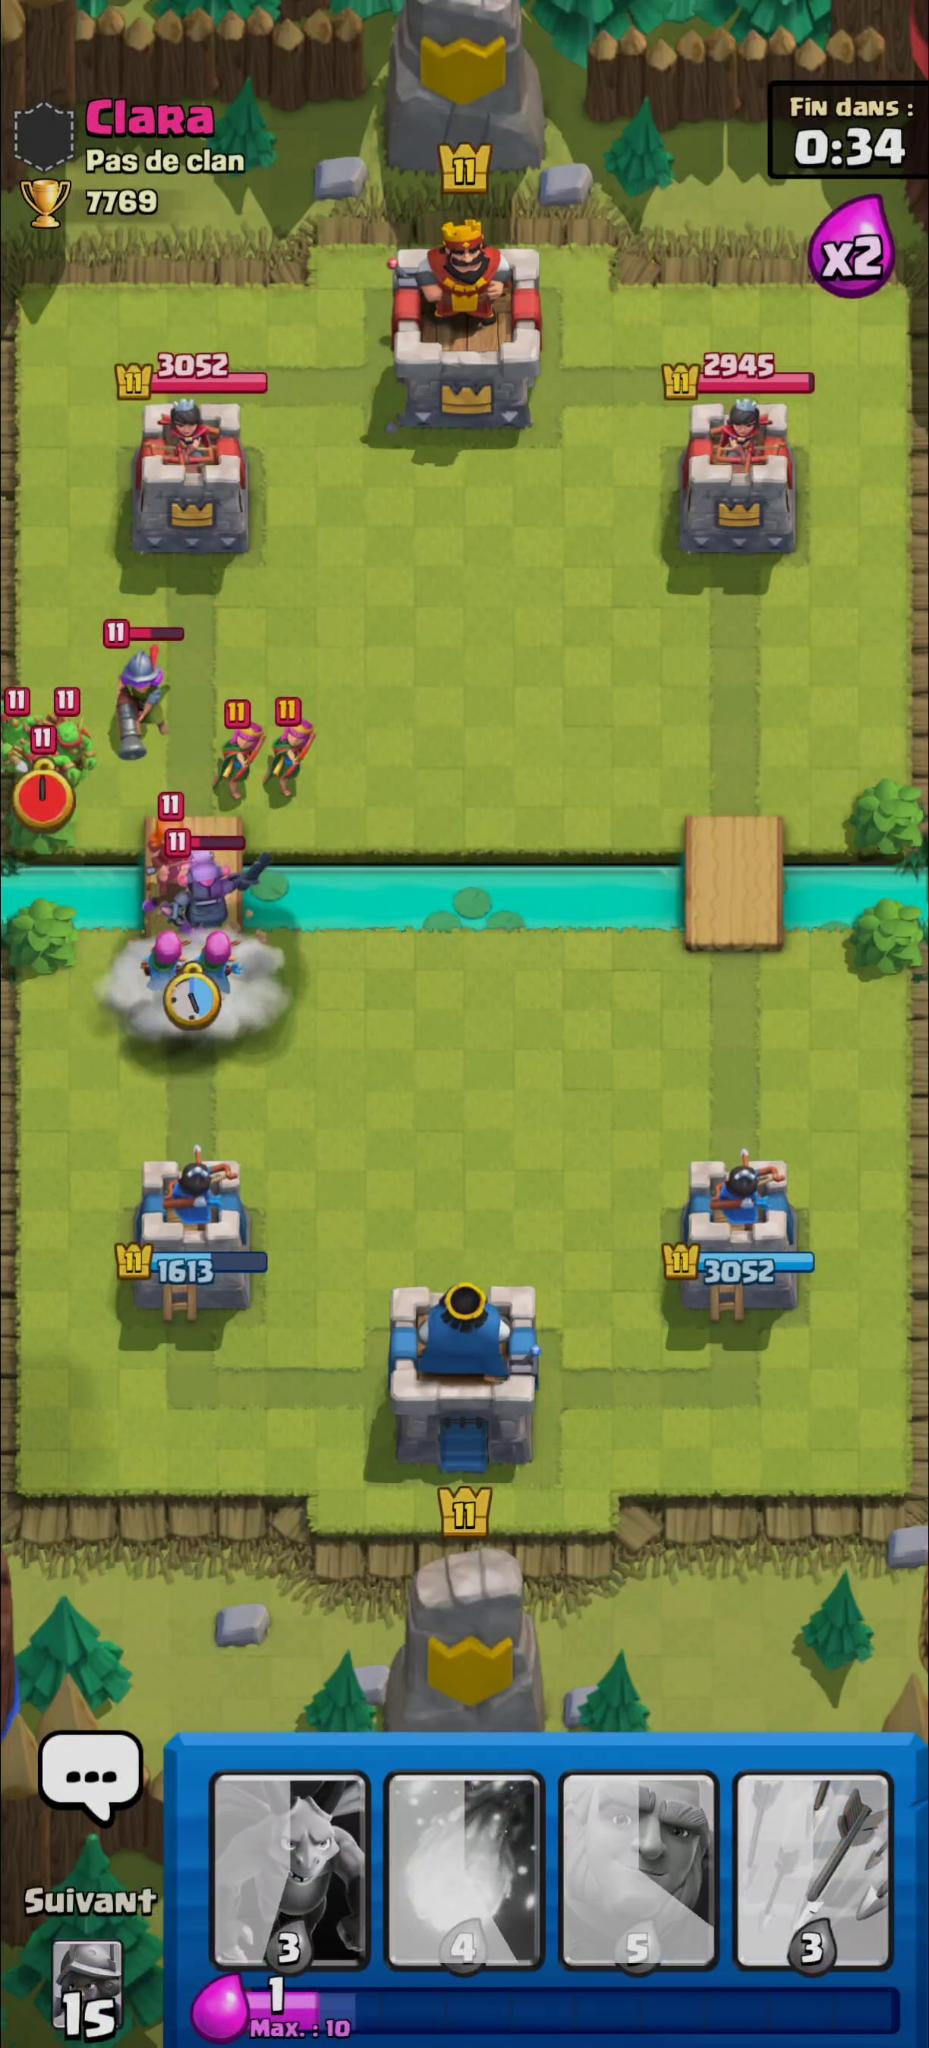archere: (268, 714, 318, 803), (213, 720, 265, 803), (191, 933, 247, 998), (141, 926, 188, 991)
gobelin: (43, 712, 102, 771), (8, 742, 81, 781), (1, 700, 41, 765)
mini_PEKKA: (166, 856, 277, 933)
mousquetaire: (118, 647, 180, 764)
valkyrie: (141, 815, 189, 893)
